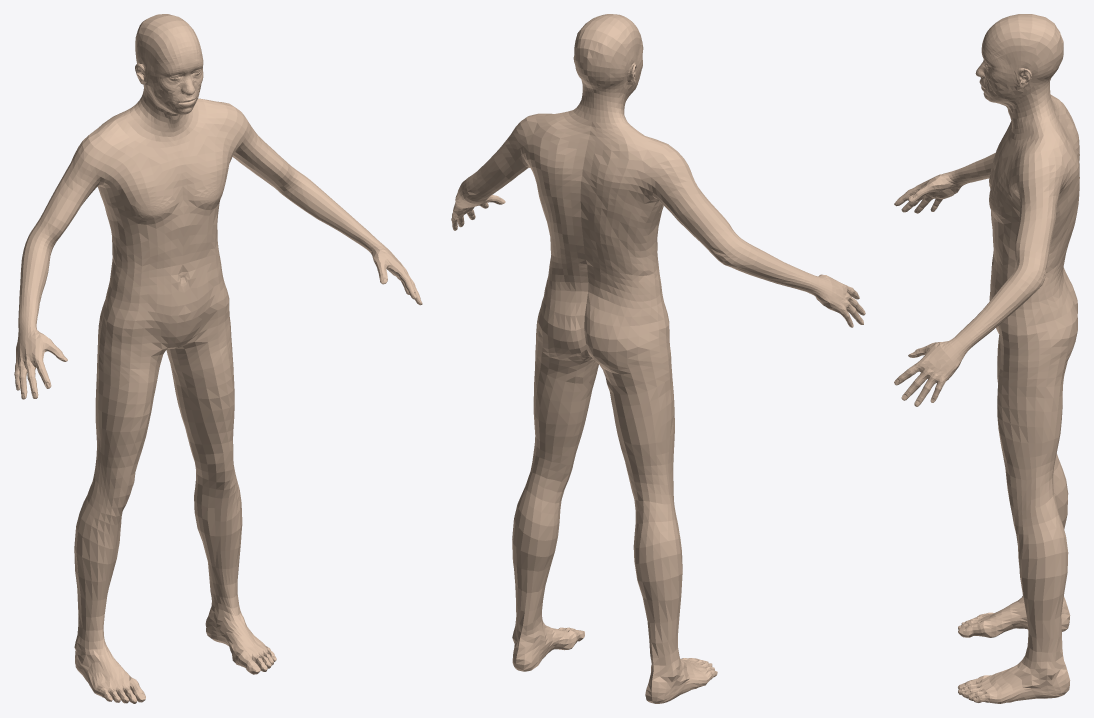
The model's file is male-mature-lean-strong.glb.
3 views of the same model, side by side, from view 1: azimuth 30°, elevation 25°; view 2: azimuth 150°, elevation 25°; view 3: azimuth 270°, elevation 25° (orthographic).
Parts seen in each view (by area): view 1: world; view 2: world; view 3: world.
Part boxes in pixels (x1,y1,x2,y2): world: [14, 14, 422, 703]; world: [451, 14, 865, 703]; world: [894, 14, 1079, 703].
Bounding box in the file's own units: 1.25 × 1.94 × 0.5038.
